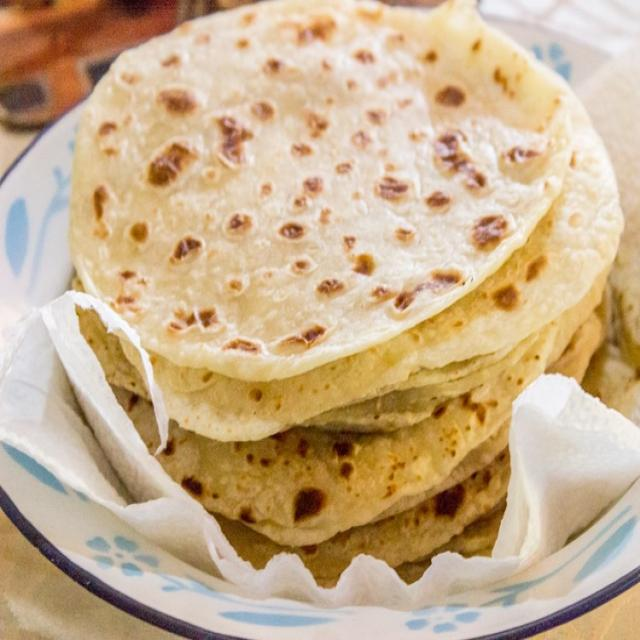ROTI: (71, 0, 619, 545)
